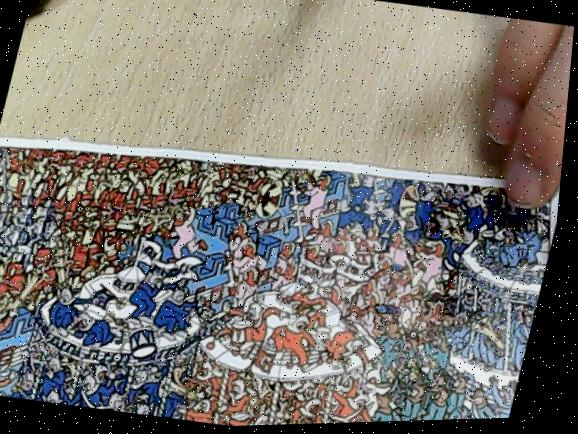waldo: (444, 295, 468, 320)
